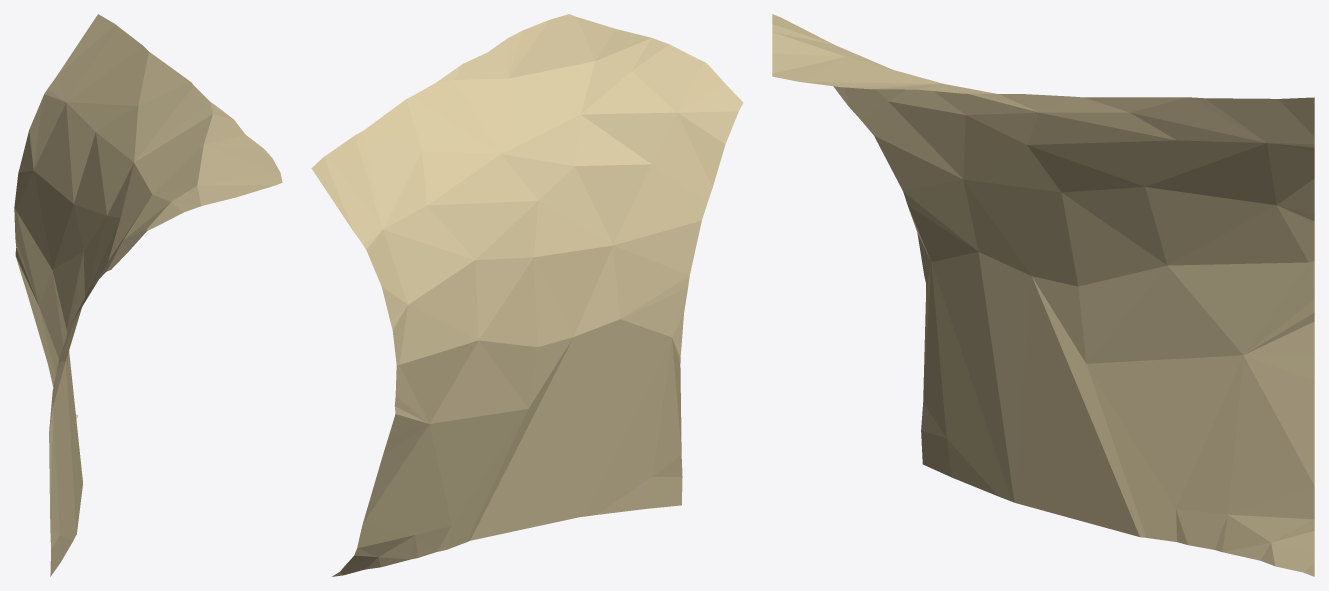
Rendered from bisect-6-3-2.gltf.
The picture shows the model from 3 angles, left to right: view 1: azimuth 30°, elevation 25°; view 2: azimuth 150°, elevation 25°; view 3: azimuth 270°, elevation 25°; orthographic projection. The views are drawn at different scales.
Parts seen in each view (by area): view 1: bisect-6-3-2; view 2: bisect-6-3-2; view 3: bisect-6-3-2.
Boxes of the visible parts, x1=… form: bisect-6-3-2: x1=14, y1=14, x2=282, y2=576; bisect-6-3-2: x1=311, y1=14, x2=743, y2=576; bisect-6-3-2: x1=772, y1=14, x2=1314, y2=576.
Size of the model in its own units: 10.99 by 20 by 20.
